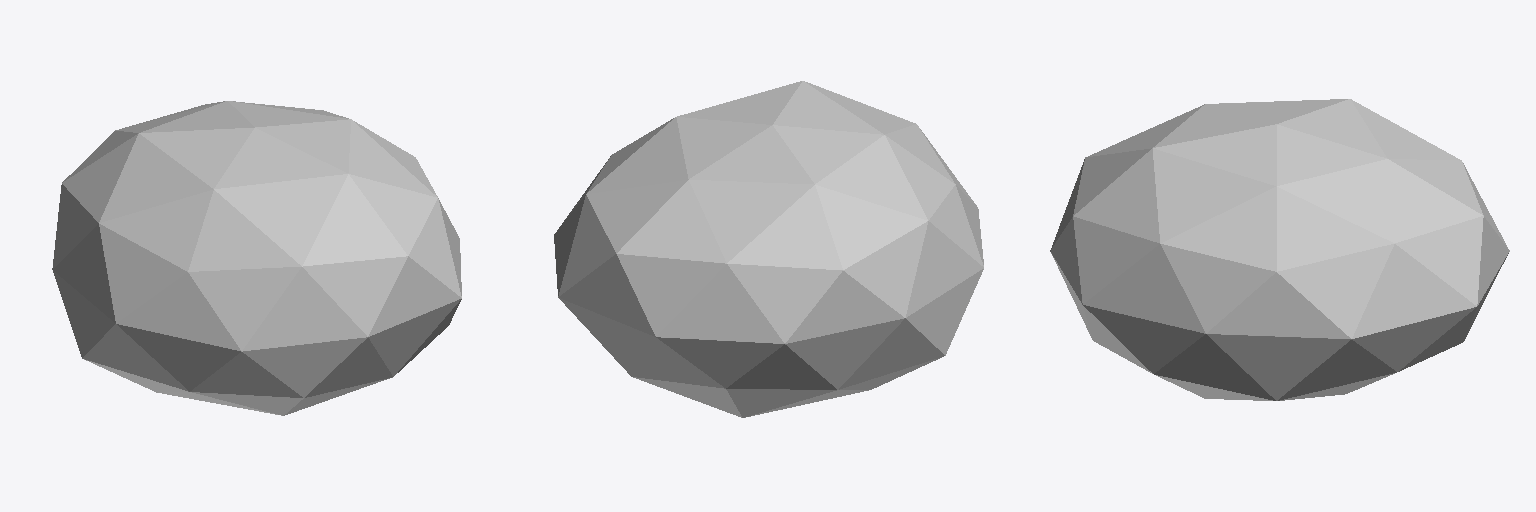
Rendered from asteroid_2.obj.
The picture shows the model from 3 angles: view 1: azimuth 30°, elevation 25°; view 2: azimuth 150°, elevation 25°; view 3: azimuth 270°, elevation 25°; orthographic projection.
Visible parts, largest first — view 1: Asteroid_2; view 2: Asteroid_2; view 3: Asteroid_2.
Boxes of the visible parts, x1,y1,x2,y2 form: Asteroid_2: [52, 101, 461, 415]; Asteroid_2: [554, 81, 983, 417]; Asteroid_2: [1050, 99, 1509, 400].
Size of the model in its own units: 2 by 1.4 by 2.24.